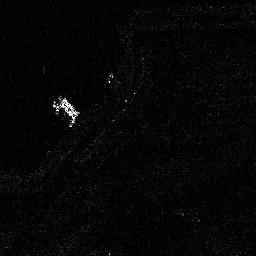ship: (54, 97, 80, 127)
